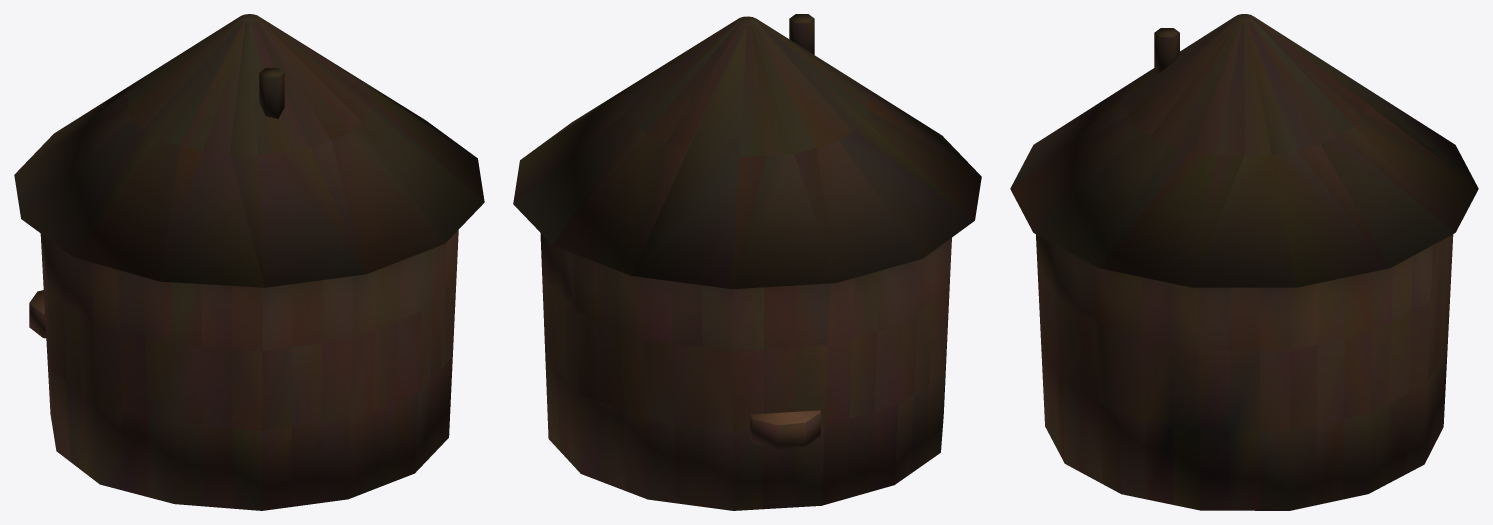
Rendered from structure_bk_foret_broceliande_0002.glb.
The picture shows the model from 3 angles, left to right: view 1: azimuth 30°, elevation 25°; view 2: azimuth 150°, elevation 25°; view 3: azimuth 270°, elevation 25°; orthographic projection.
Visible parts, largest first — view 1: structure_bk_002; view 2: structure_bk_002; view 3: structure_bk_002.
Part boxes in pixels (x1=…): structure_bk_002: x1=14, y1=14, x2=484, y2=510; structure_bk_002: x1=513, y1=14, x2=981, y2=510; structure_bk_002: x1=1010, y1=14, x2=1478, y2=510.
Bounding box in the file's own units: 3.32 × 3.2 × 3.33.
